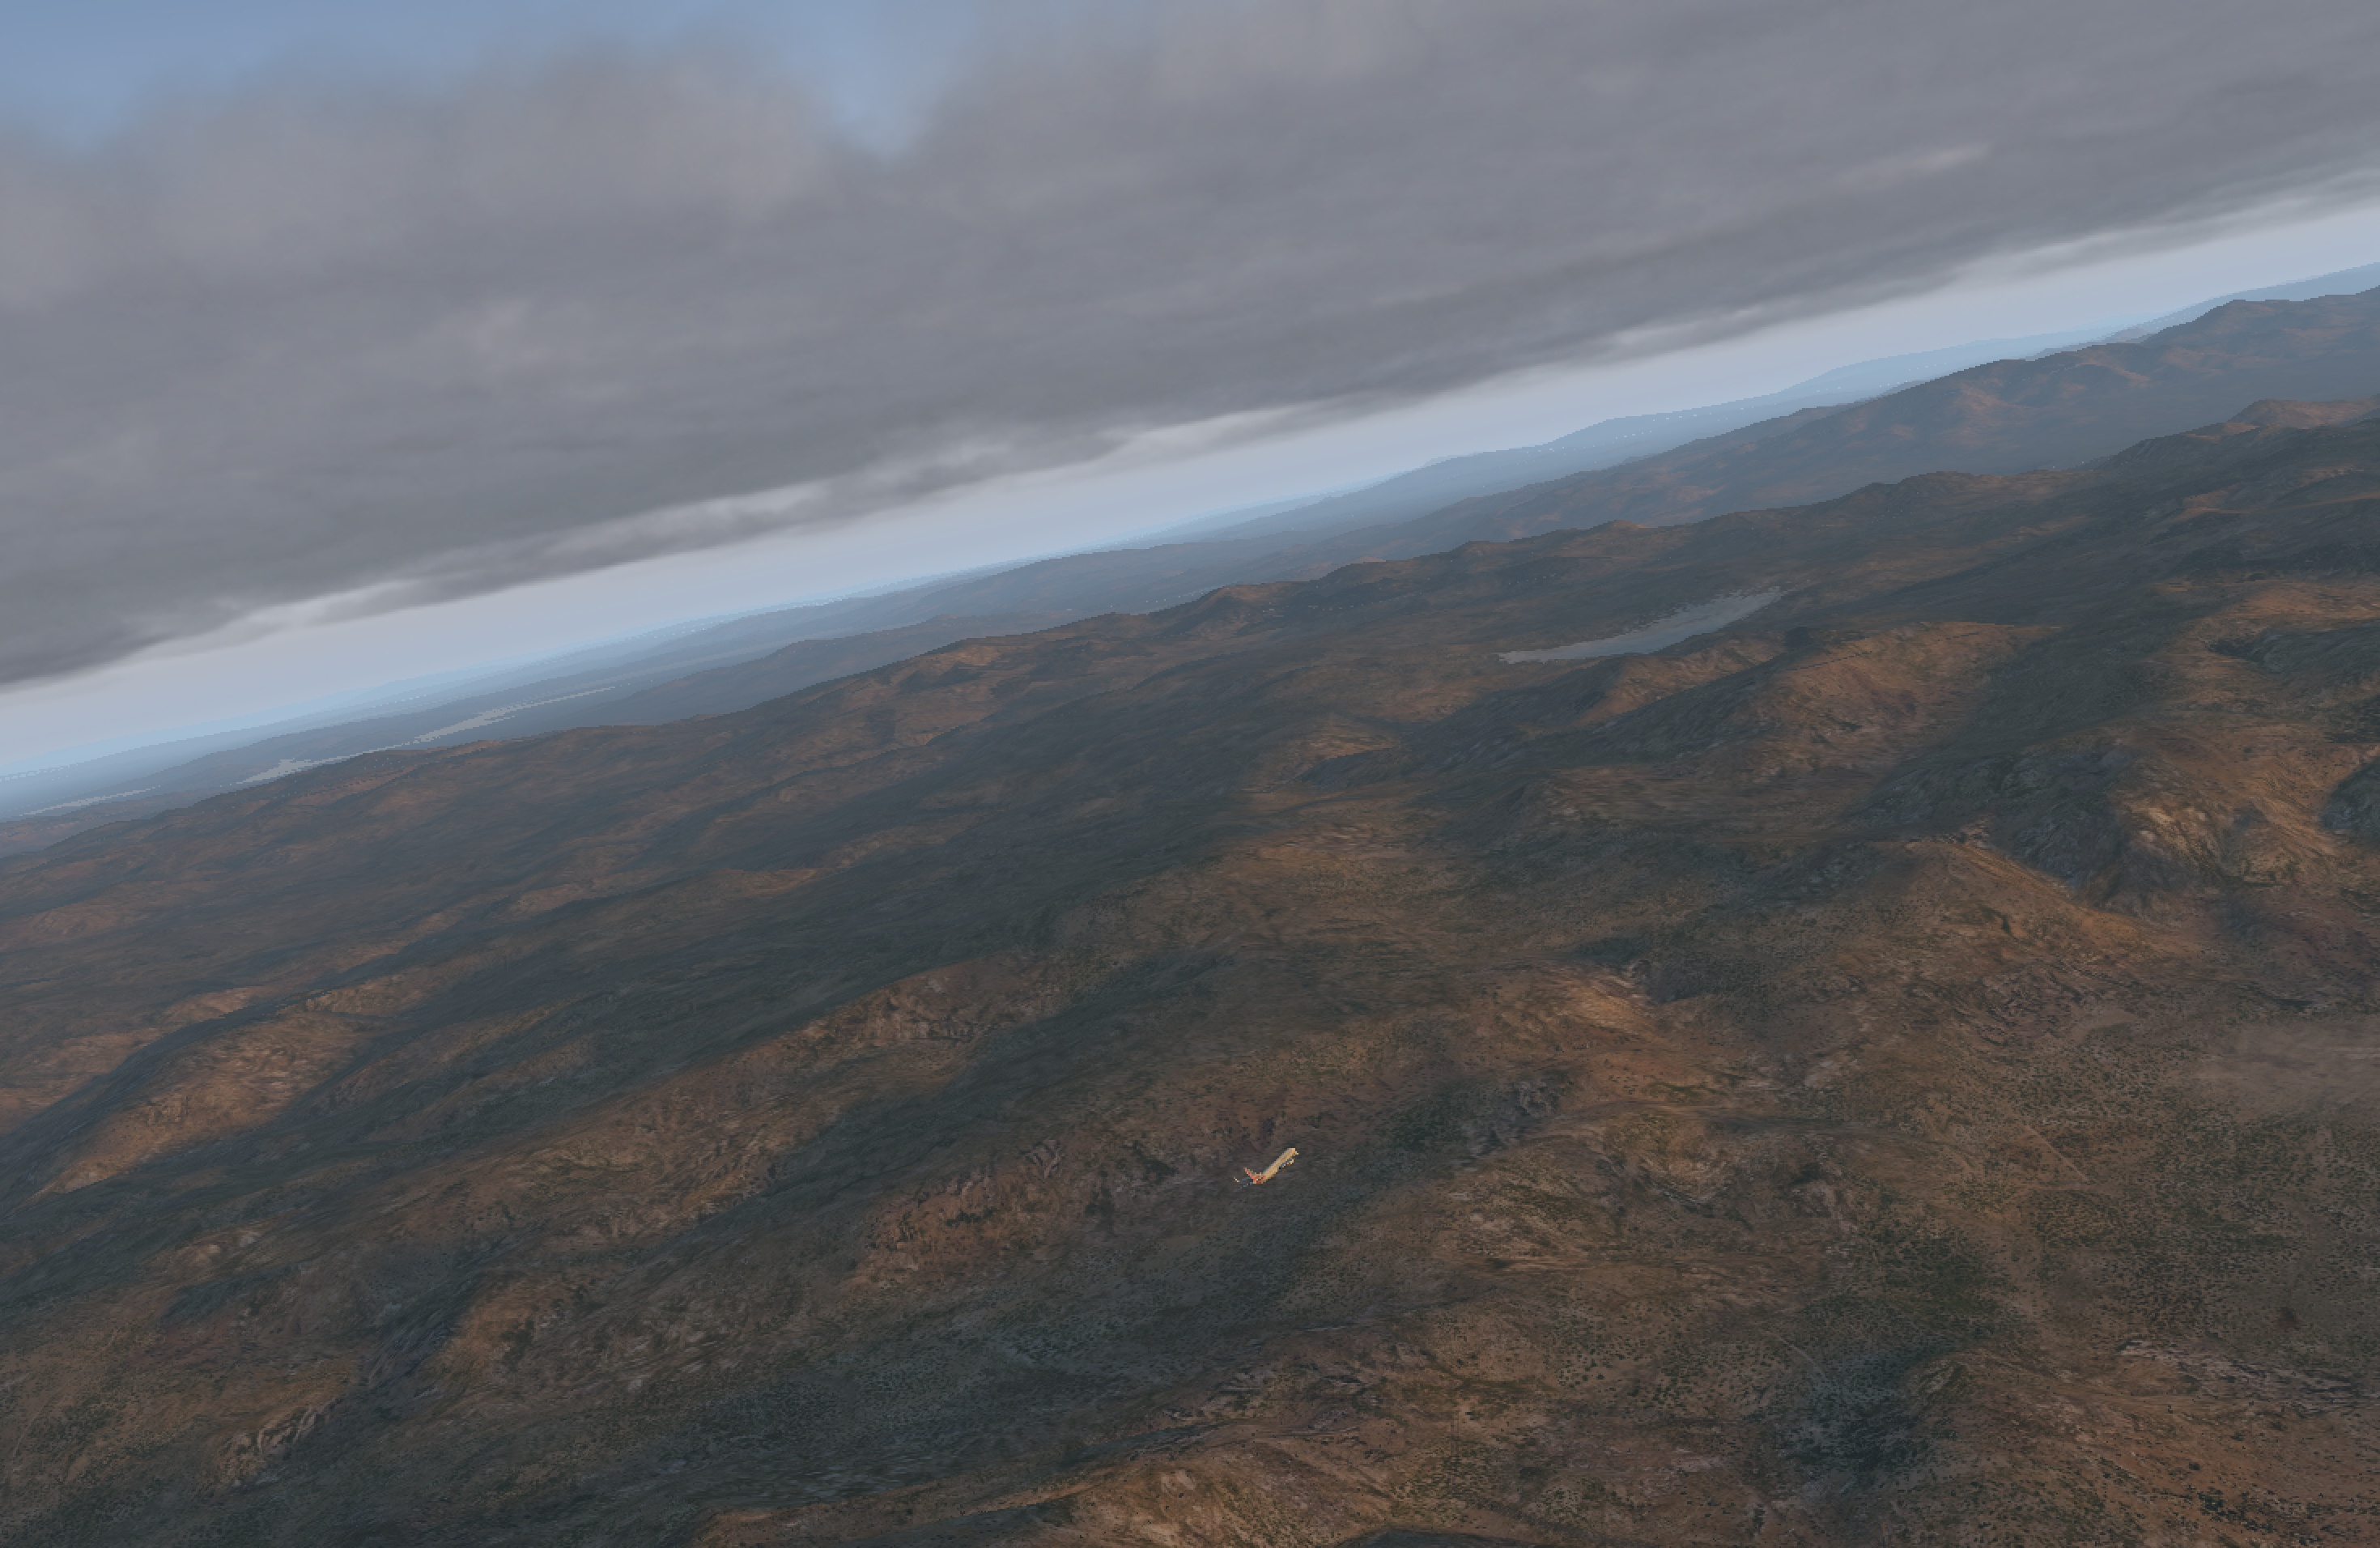aircraft: (1232, 1151, 1322, 1184)
